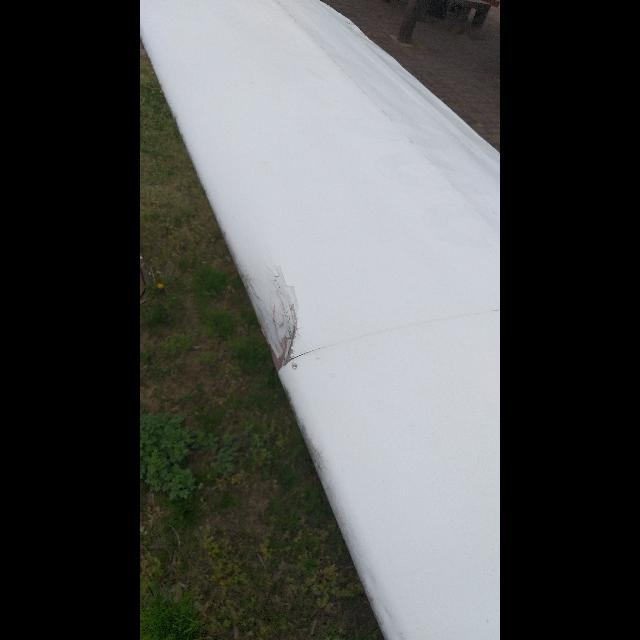dent: (248, 284, 308, 371)
